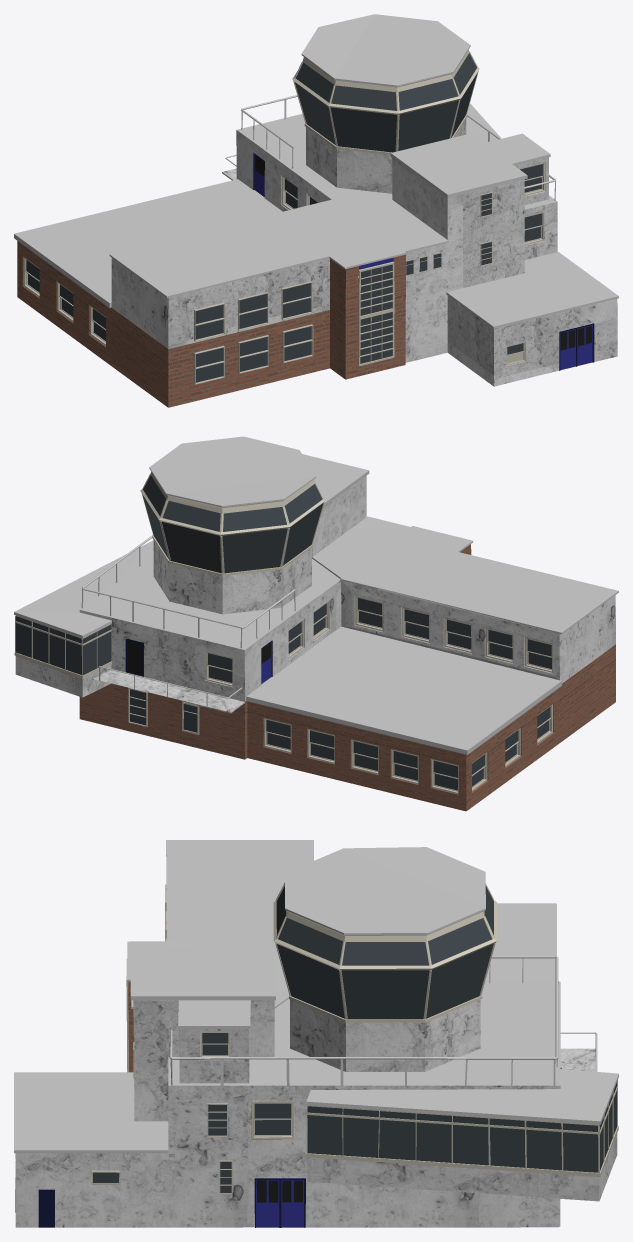
File: eghhtower.gltf
3 renders of one model, top to bottom at view 1: azimuth 30°, elevation 25°; view 2: azimuth 150°, elevation 25°; view 3: azimuth 270°, elevation 25°, orthographic. The views are drawn at different scales.
Visible parts, largest first — view 1: Plane; view 2: Plane; view 3: Plane.
Boxes of the visible parts, left/top/right/bottom form: Plane: left=14, top=14, right=618, bottom=407; Plane: left=14, top=436, right=618, bottom=811; Plane: left=14, top=840, right=618, bottom=1227.
Bounding box in the file's own units: 26.16 × 12.59 × 24.29.
